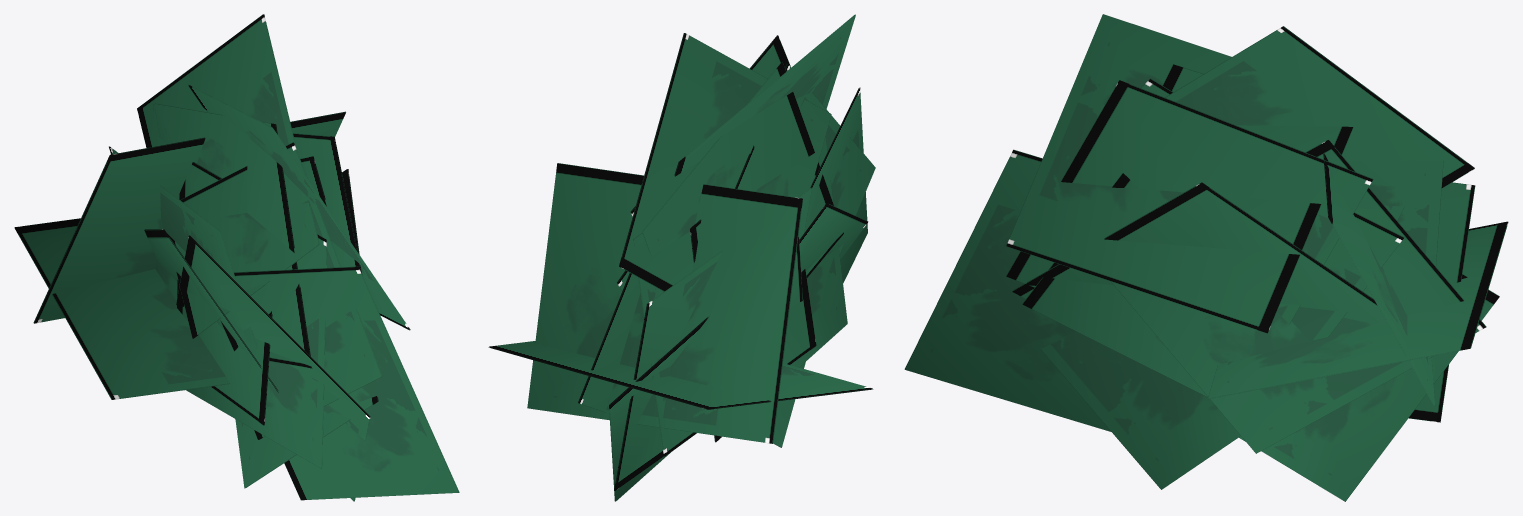
The model's file is Hugo_Haie1.fbx.
The picture shows the model from 3 angles, left to right: view 1: azimuth 30°, elevation 25°; view 2: azimuth 150°, elevation 25°; view 3: azimuth 270°, elevation 25°; orthographic projection.
Parts seen in each view (by area): view 1: BaseFeuilles.002; view 2: BaseFeuilles.002; view 3: BaseFeuilles.002.
Boxes of the visible parts, box(x1,y1,x2,y2) form: BaseFeuilles.002: box(14, 14, 459, 501); BaseFeuilles.002: box(488, 14, 875, 501); BaseFeuilles.002: box(904, 14, 1508, 501).
Bounding box in the file's own units: 127 × 202 × 242.
